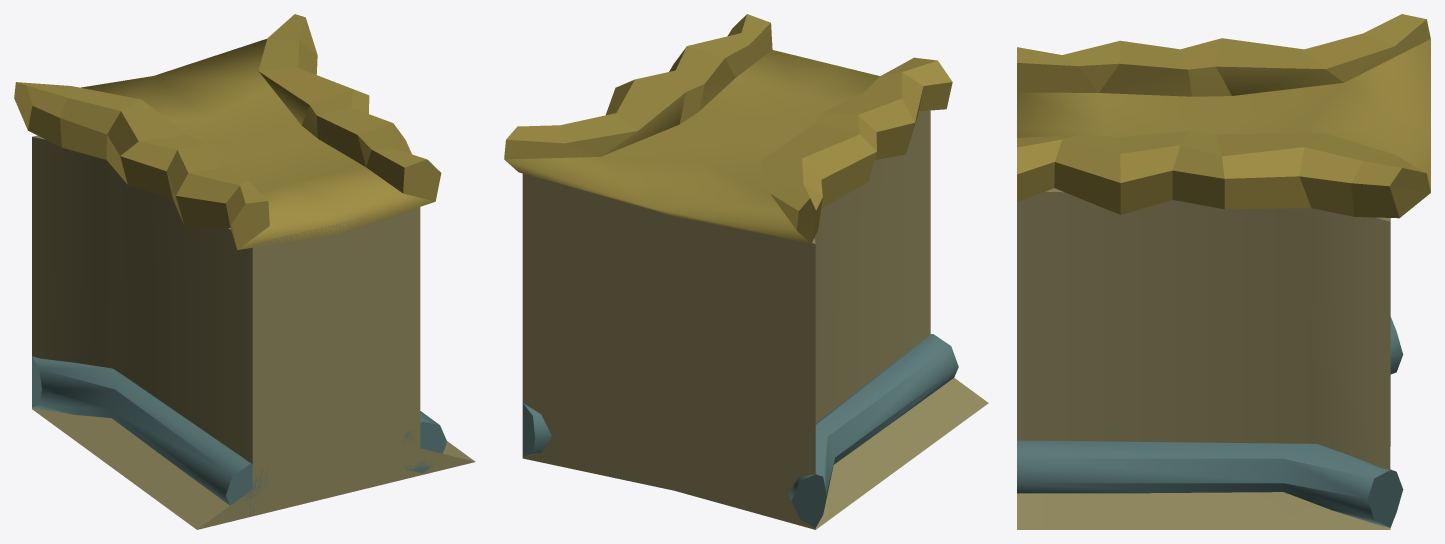
Rendered from Int_12_Wall_Cross_Centerr_Up.fbx.
3 views of the same model, side by side, from view 1: azimuth 30°, elevation 25°; view 2: azimuth 150°, elevation 25°; view 3: azimuth 270°, elevation 25° (orthographic). The views are drawn at different scales.
Parts seen in each view (by area): view 1: Int_12_Wall_Cross_Centerr_Up1; view 2: Int_12_Wall_Cross_Centerr_Up1; view 3: Int_12_Wall_Cross_Centerr_Up1.
Boxes of the visible parts, <box> form: Int_12_Wall_Cross_Centerr_Up1: <box>14,14,475,529</box>; Int_12_Wall_Cross_Centerr_Up1: <box>504,14,988,529</box>; Int_12_Wall_Cross_Centerr_Up1: <box>1017,14,1430,529</box>.
Bounding box in the file's own units: 1 × 1.1 × 1.14.
